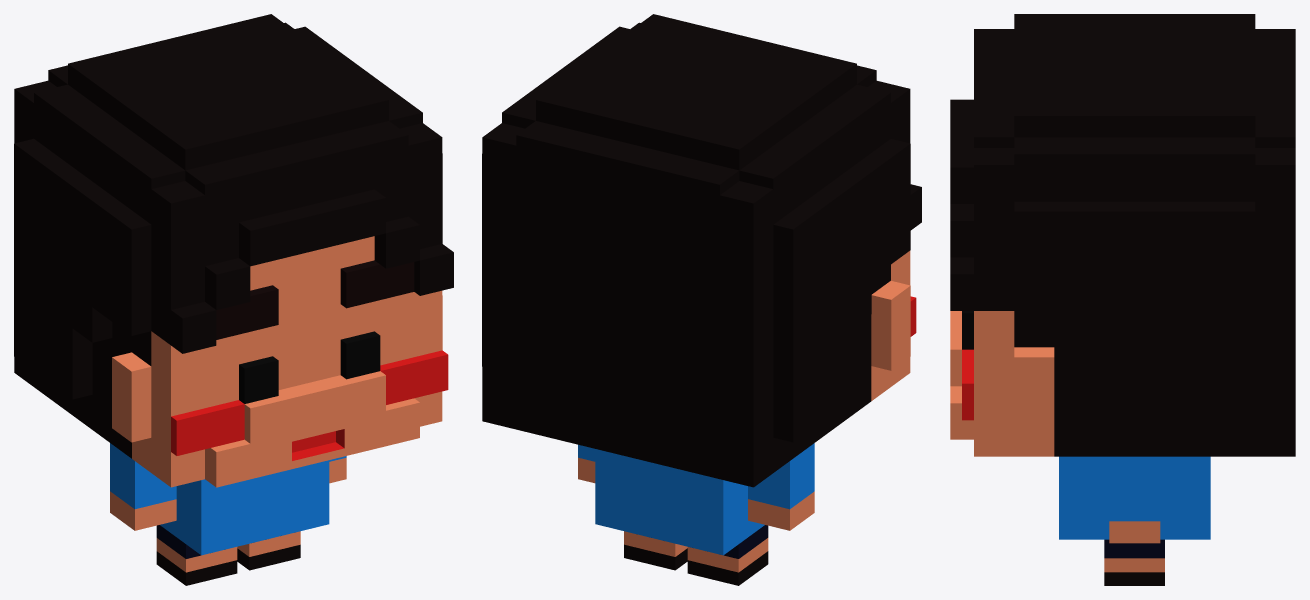
File: Human.FBX
The picture shows the model from 3 angles, left to right: view 1: azimuth 30°, elevation 25°; view 2: azimuth 150°, elevation 25°; view 3: azimuth 270°, elevation 25°; orthographic projection. The views are drawn at different scales.
Parts seen in each view (by area): view 1: Box018, Box019, Box023, Box020, Box021; view 2: Box018, Box019, Box023, Box020, Box021, Box022; view 3: Box018, Box019, Box022, Box021.
Boxes of the visible parts, x1,y1,x2,y2 form: Box018: (14,14,453,487); Box019: (160,460,329,555); Box023: (110,443,176,530); Box020: (156,525,237,585); Box021: (237,531,300,570); Box018: (482,14,921,487); Box019: (595,449,764,555); Box023: (748,443,814,530); Box020: (687,525,768,585); Box021: (624,531,687,570); Box022: (578,444,595,483); Box018: (950,14,1295,456); Box019: (1059,456,1210,539); Box022: (1109,456,1160,543); Box021: (1104,539,1164,585).
Bounding box in the file's own units: 30.64 × 45.1 × 28.68.
